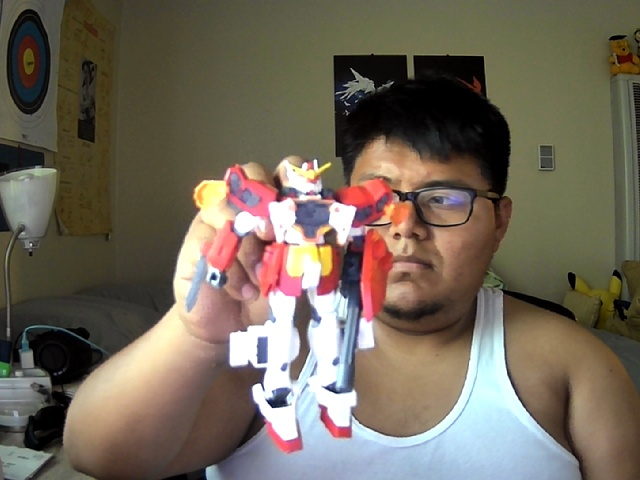Deatharms: (185, 161, 409, 454)
